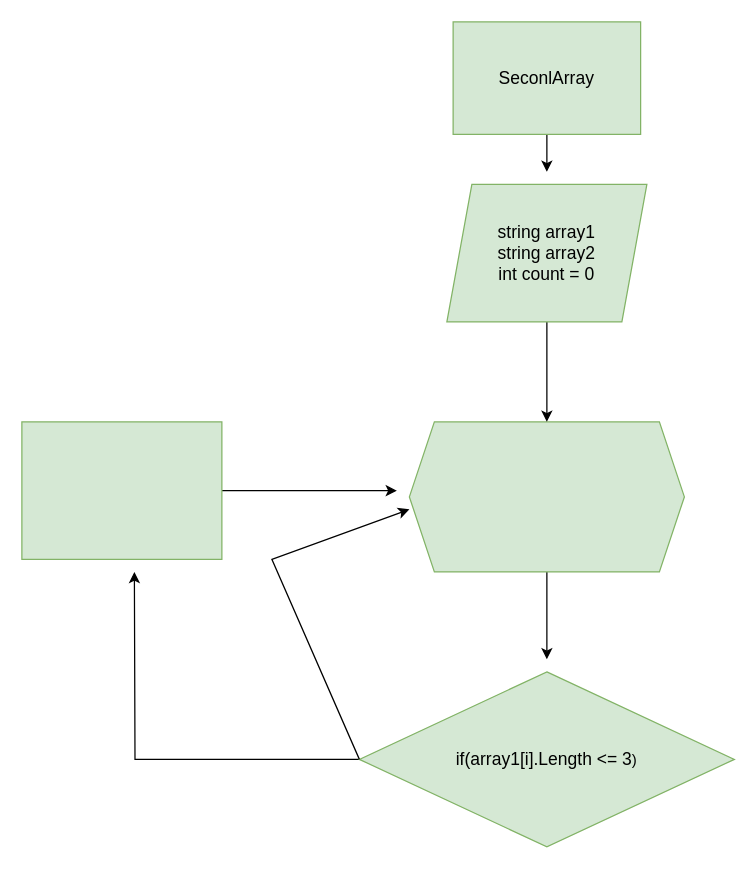
Some shapes in this 756 by 869 pixel diagram are drawn without their labels. Here are the shapes that lost their labels. From the top down, the centre of each, then its label:
At pixel 121 490: "Array2[count] = array1[i]; count++;".
At pixel 546 496: "for int i = 0; i < array1.Length; i++".
